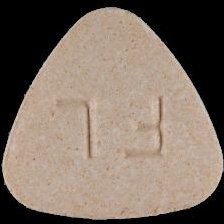50090-1127: (0, 0, 224, 224)
